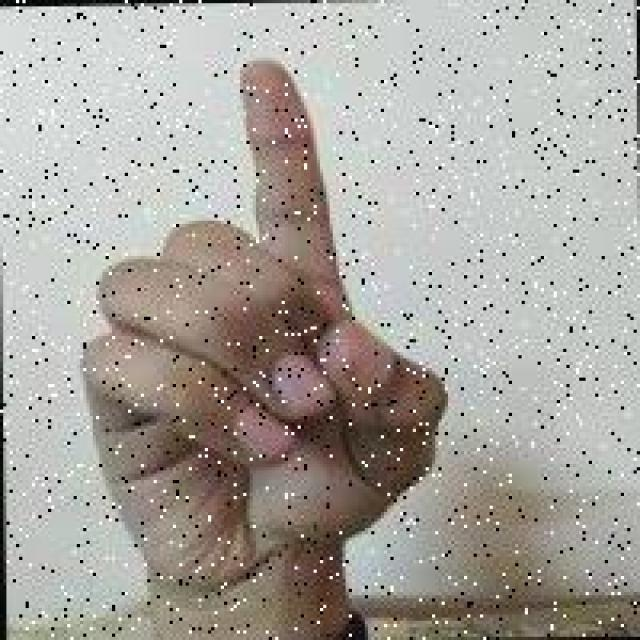D: (56, 48, 453, 598)
